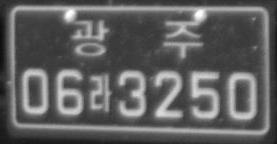0: (226, 71, 258, 121), (22, 67, 49, 115)
2: (153, 69, 184, 120)
3: (117, 70, 146, 116)
5: (189, 69, 221, 120)
6: (55, 68, 84, 116)
광주_D: (70, 18, 203, 58)
라: (89, 73, 112, 113)
